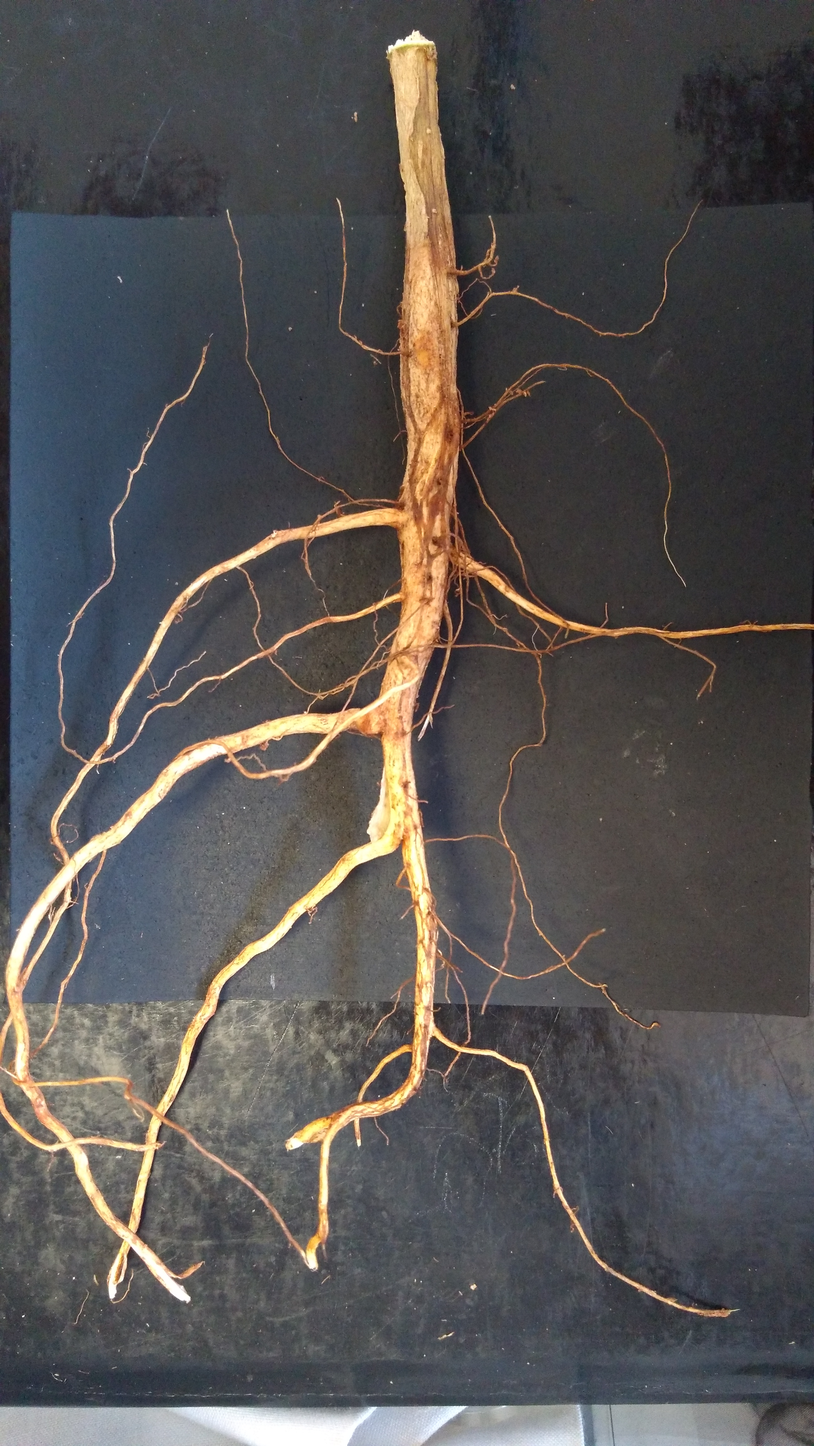nodule: (366, 766, 391, 844), (356, 708, 384, 735), (259, 741, 269, 751), (399, 324, 406, 338), (488, 406, 496, 413), (397, 319, 402, 329), (494, 255, 499, 263), (425, 128, 431, 134), (515, 389, 522, 394), (512, 287, 517, 293), (522, 391, 527, 397), (432, 208, 437, 213), (304, 711, 307, 714)
